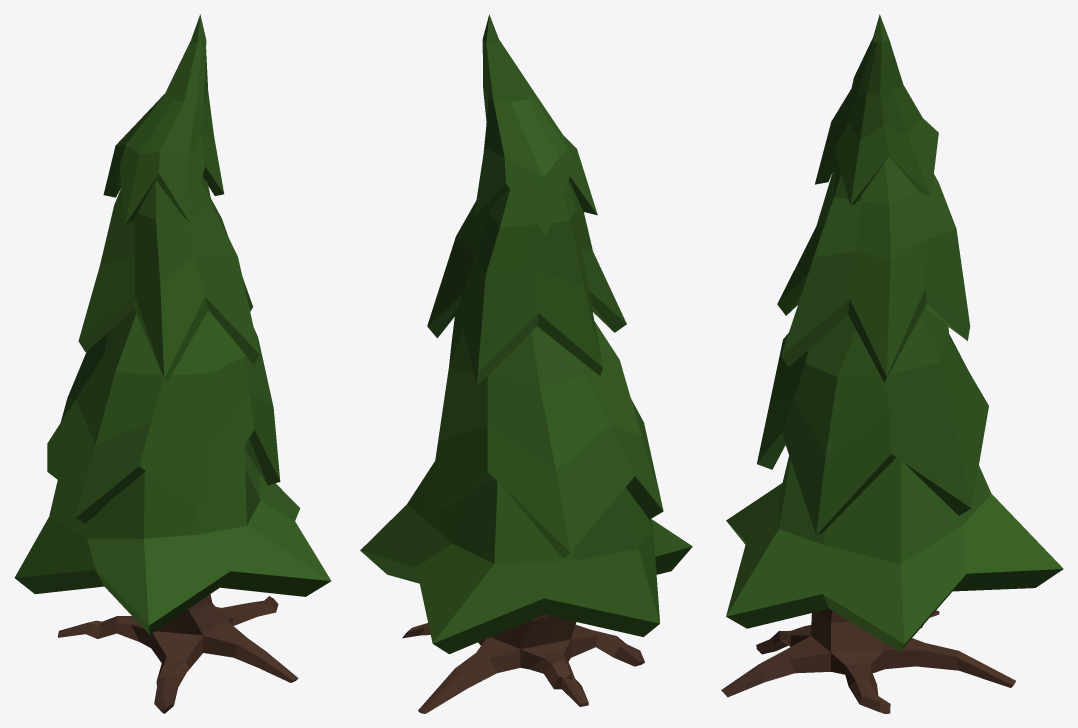
File: Tree.fbx
3 views of the same model, side by side, from view 1: azimuth 30°, elevation 25°; view 2: azimuth 150°, elevation 25°; view 3: azimuth 270°, elevation 25° (orthographic). The views are drawn at different scales.
Visible parts, largest first — view 1: Cube.002, Cube.001; view 2: Cube.002, Cube.001; view 3: Cube.002, Cube.001.
Part boxes in pixels (x1=…): Cube.002: x1=14, y1=14, x2=331, y2=634; Cube.001: x1=58, y1=594, x2=298, y2=713; Cube.002: x1=360, y1=14, x2=692, y2=654; Cube.001: x1=402, y1=614, x2=644, y2=713; Cube.002: x1=726, y1=14, x2=1063, y2=651; Cube.001: x1=721, y1=609, x2=1015, y2=713.
Bounding box in the file's own units: 508 × 1082 × 489.
